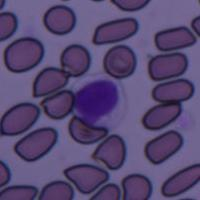L: (74, 72, 130, 128)
